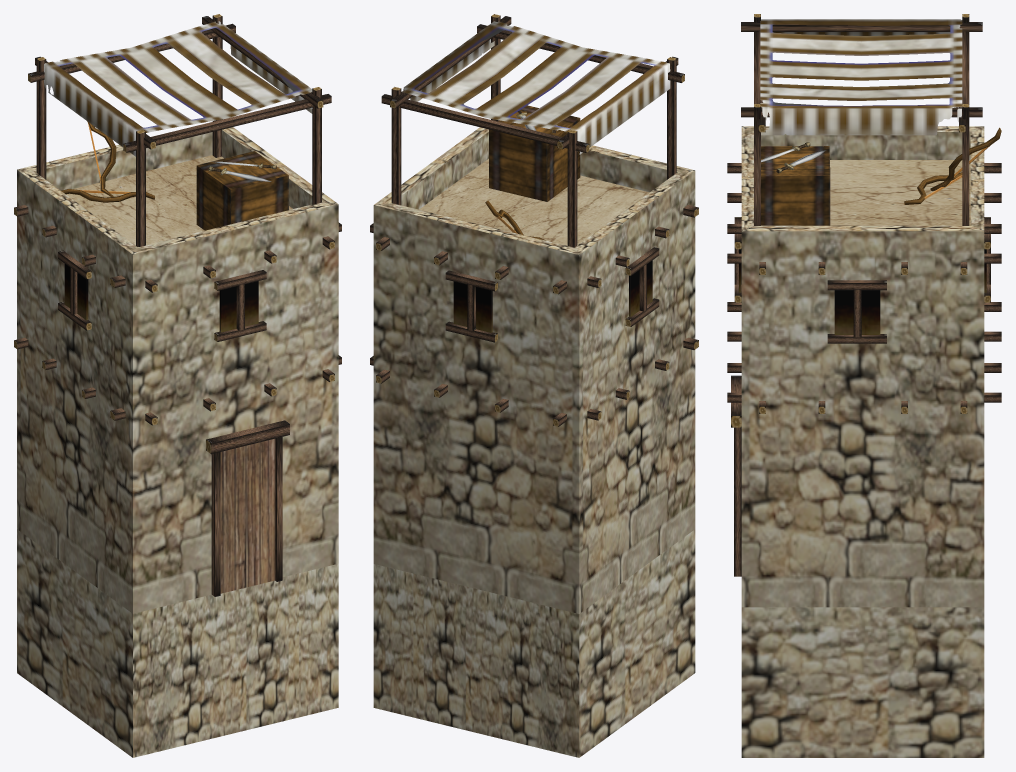
Rendered from wood_tower.dae.
The picture shows the model from 3 angles, left to right: view 1: azimuth 30°, elevation 25°; view 2: azimuth 150°, elevation 25°; view 3: azimuth 270°, elevation 25°; orthographic projection. The views are drawn at different scales.
Visible parts, largest first — view 1: wooder_tower; view 2: wooder_tower; view 3: wooder_tower.
Boxes of the visible parts, x1,y1,x2,y2 form: wooder_tower: [14, 14, 341, 757]; wooder_tower: [370, 14, 698, 757]; wooder_tower: [727, 14, 1001, 757].
Bounding box in the file's own units: 6.77 × 6.73 × 17.47.
